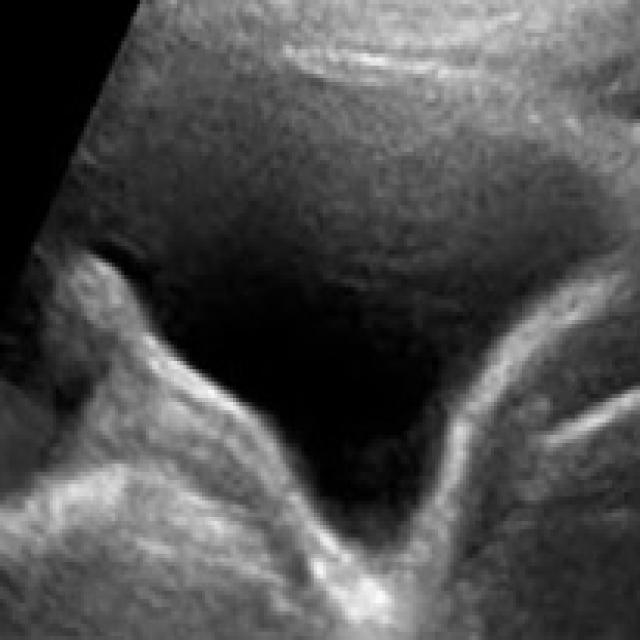bladder: (42, 20, 635, 601)
